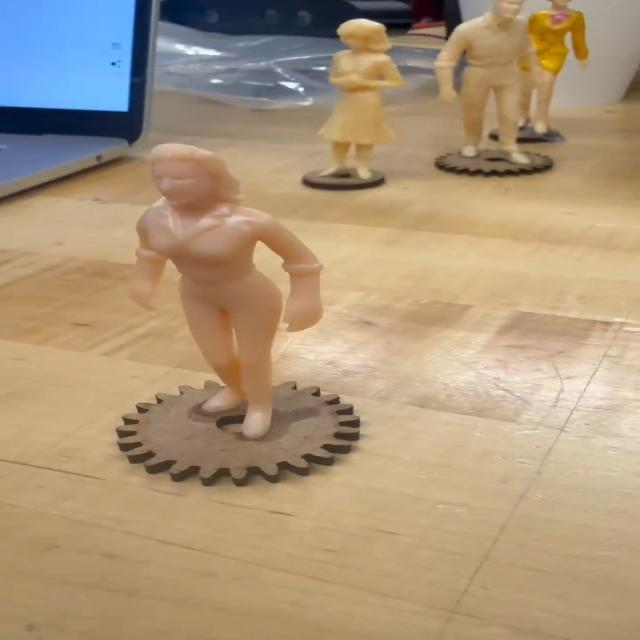Unauthorized: (78, 120, 329, 442)
